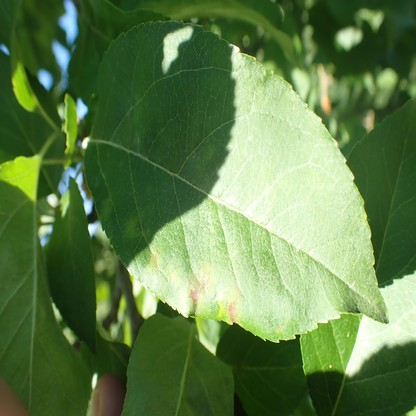scab: (188, 261, 214, 308), (222, 287, 245, 323), (190, 132, 214, 164), (146, 251, 167, 287), (125, 213, 148, 239), (100, 194, 113, 222), (277, 324, 282, 332)
